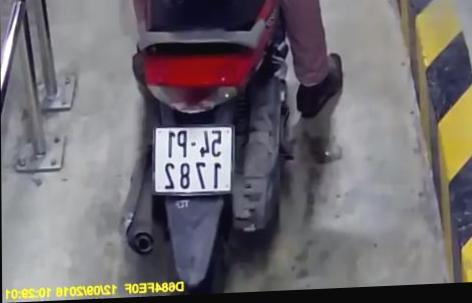License_Plate: (144, 118, 239, 205)
